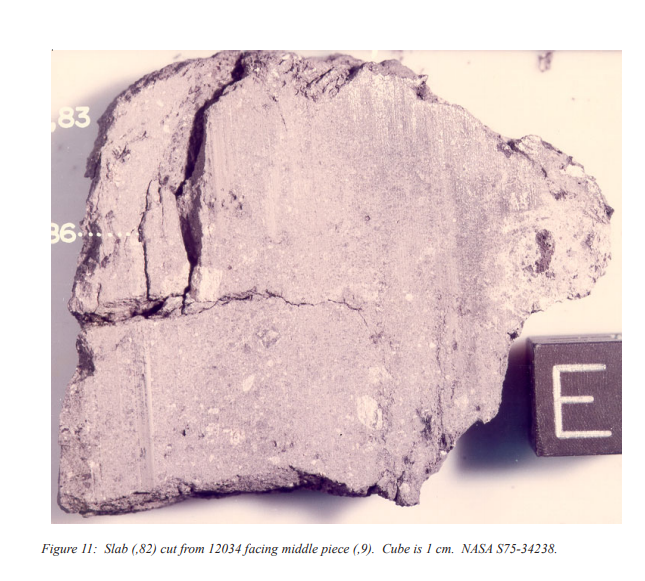Breccia: (62, 57, 615, 522)
